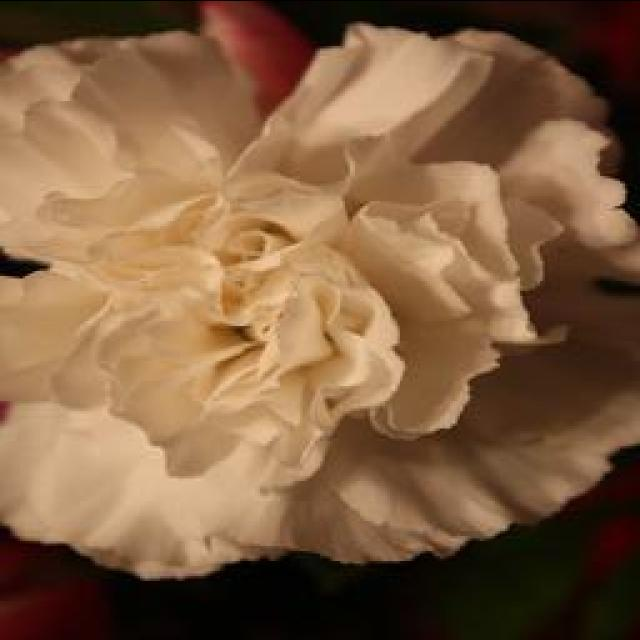carnation: (0, 0, 625, 583)
